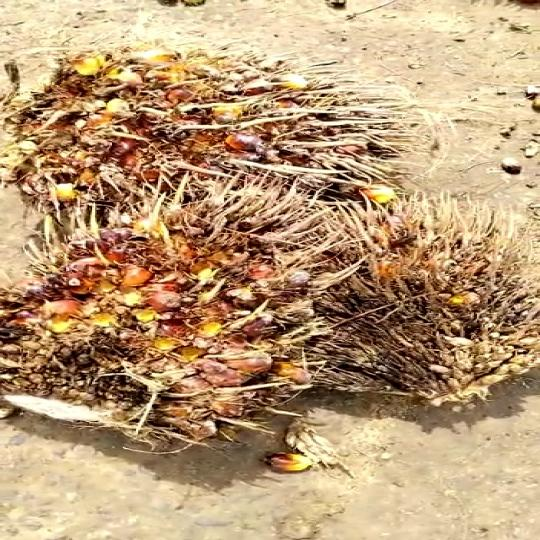terlalu masak: (0, 191, 336, 461), (0, 46, 426, 236), (242, 205, 540, 401)
